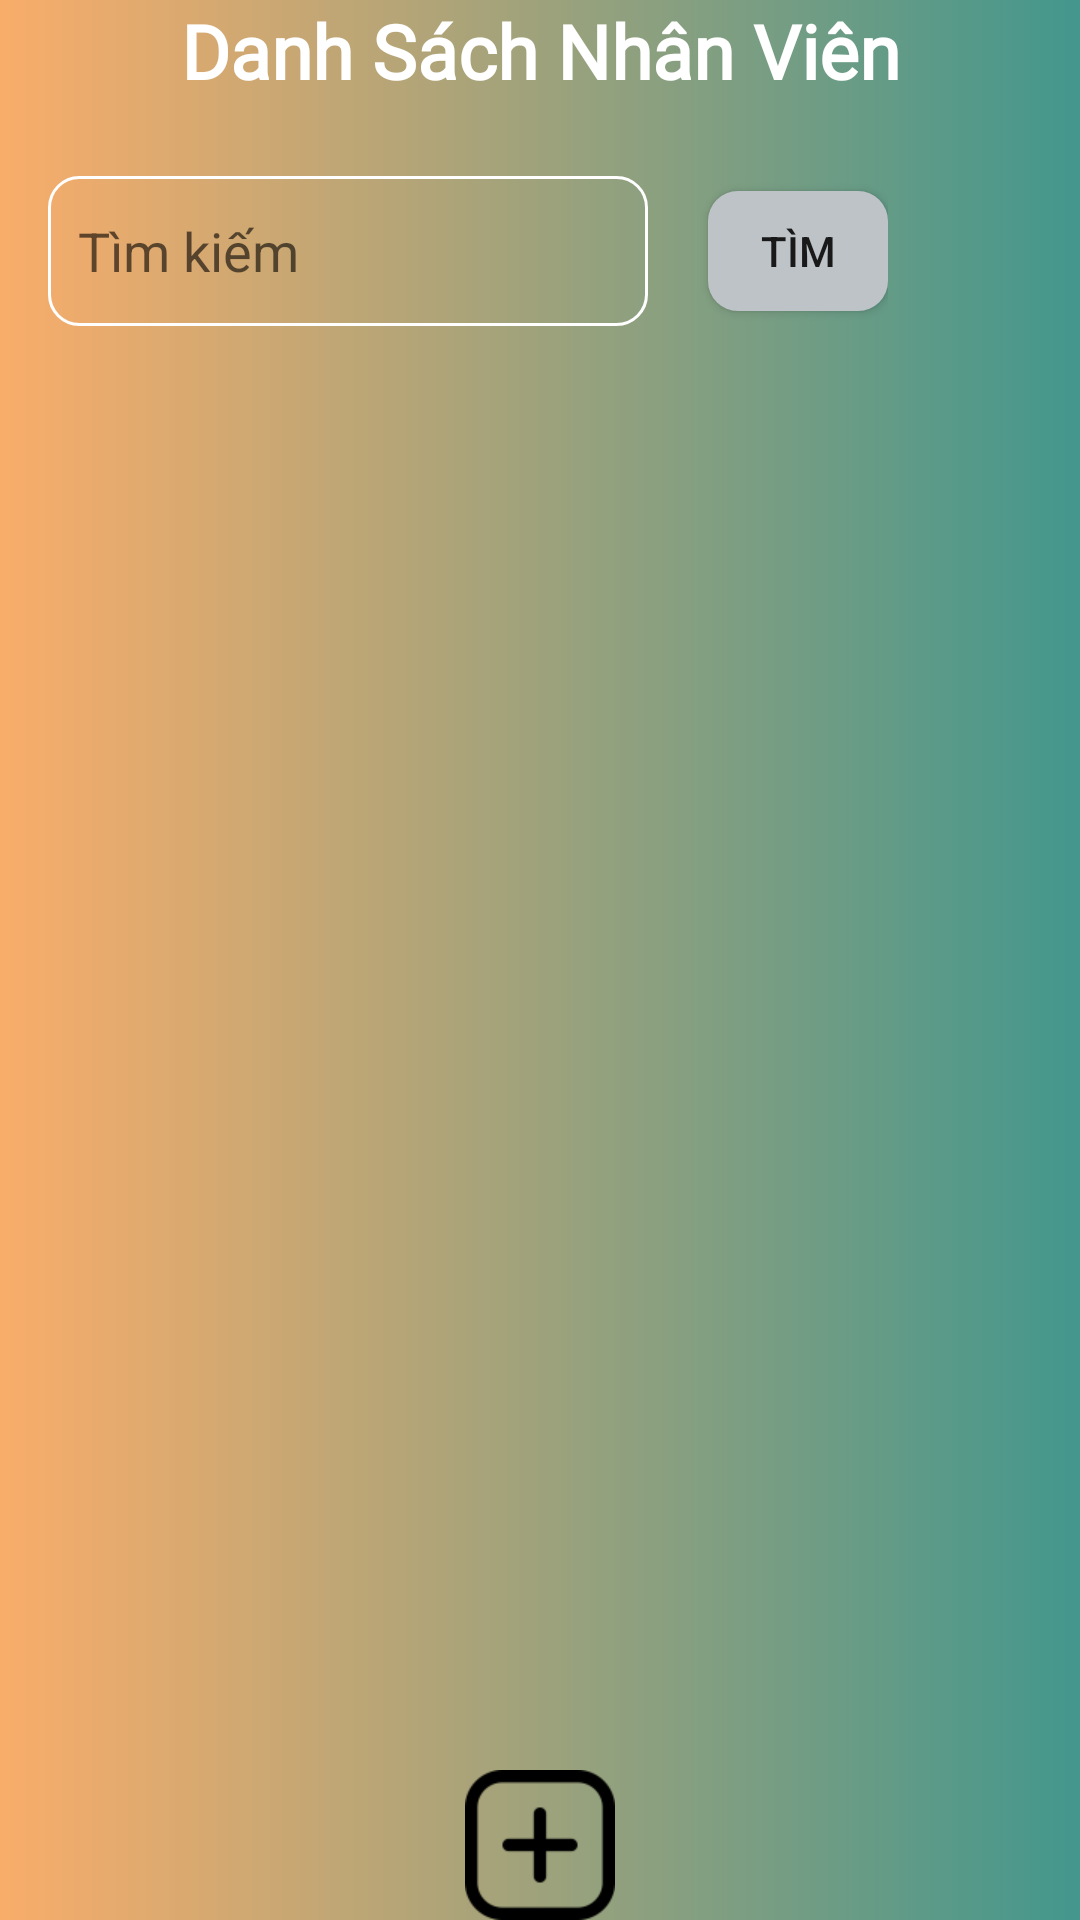

Locate icon controls on the screen. Image size 1080px x 1920px, boxes as (x1, y1, x2, y2).
add: (465, 1770, 615, 1920)
